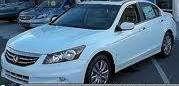front_view: (0, 40, 88, 86)
headlight: (46, 43, 87, 70)
side_glass: (116, 2, 158, 25)
